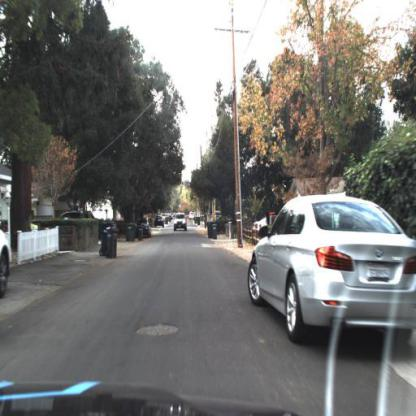car: (246, 186, 414, 340), (58, 207, 95, 230), (250, 214, 276, 236), (135, 216, 149, 236), (169, 213, 185, 230), (209, 210, 222, 223), (153, 215, 164, 229), (188, 210, 196, 221)
